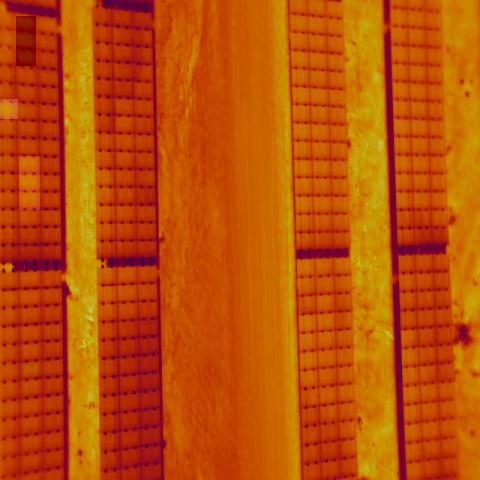fault: (19, 156, 40, 210), (16, 16, 36, 66), (20, 361, 42, 379), (0, 99, 18, 119)
